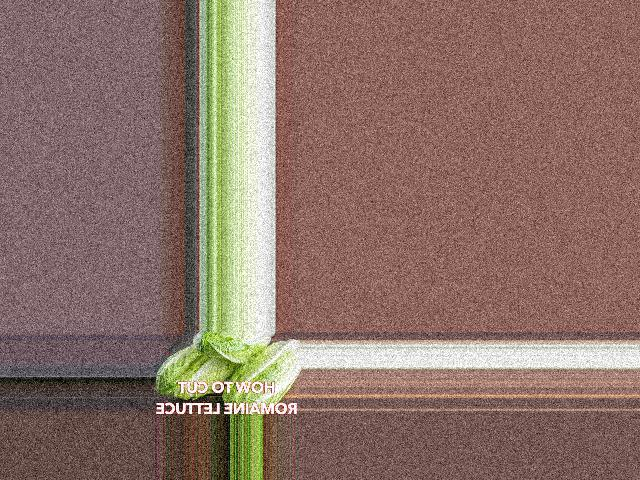lettuce: (152, 339, 244, 406)
